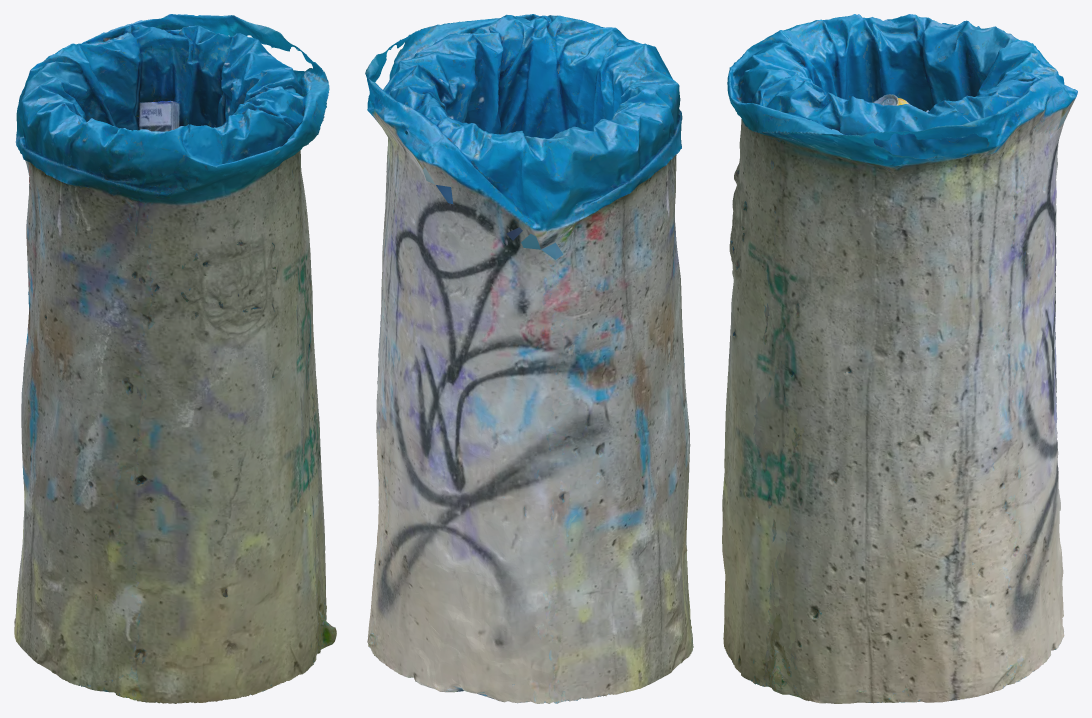
Rendered from concrete_trash_bin.glb.
3 renders of one model, left to right at view 1: azimuth 30°, elevation 25°; view 2: azimuth 150°, elevation 25°; view 3: azimuth 270°, elevation 25°, orthographic. The views are drawn at different scales.
Visible parts, largest first — view 1: Object_2; view 2: Object_2; view 3: Object_2.
Boxes of the visible parts, box(x1,y1,x2,y2) form: Object_2: box(14, 14, 336, 703); Object_2: box(365, 14, 693, 703); Object_2: box(722, 14, 1077, 703).
Bounding box in the file's own units: 0.5233 × 1.04 × 0.569.
Materials: 1 (1 with a texture image).
